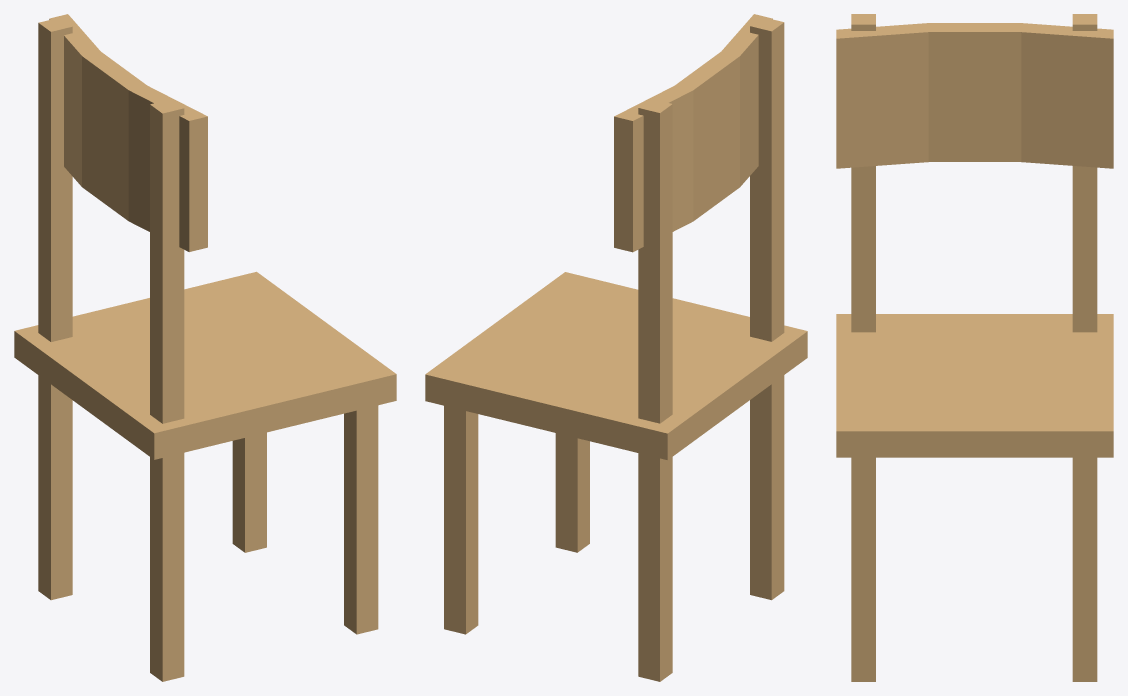
The model's file is chair.glb.
The picture shows the model from 3 angles, left to right: view 1: azimuth 30°, elevation 25°; view 2: azimuth 150°, elevation 25°; view 3: azimuth 270°, elevation 25°; orthographic projection.
Visible parts, largest first — view 1: Cube.008_Cube.007; view 2: Cube.008_Cube.007; view 3: Cube.008_Cube.007.
Boxes of the visible parts, <box> form: Cube.008_Cube.007: <box>14,14,396,681</box>; Cube.008_Cube.007: <box>425,14,807,681</box>; Cube.008_Cube.007: <box>836,14,1113,681</box>.
Size of the model in its own units: 1.05 by 2.36 by 1.05.
Materials: 1 (1 with a texture image).
